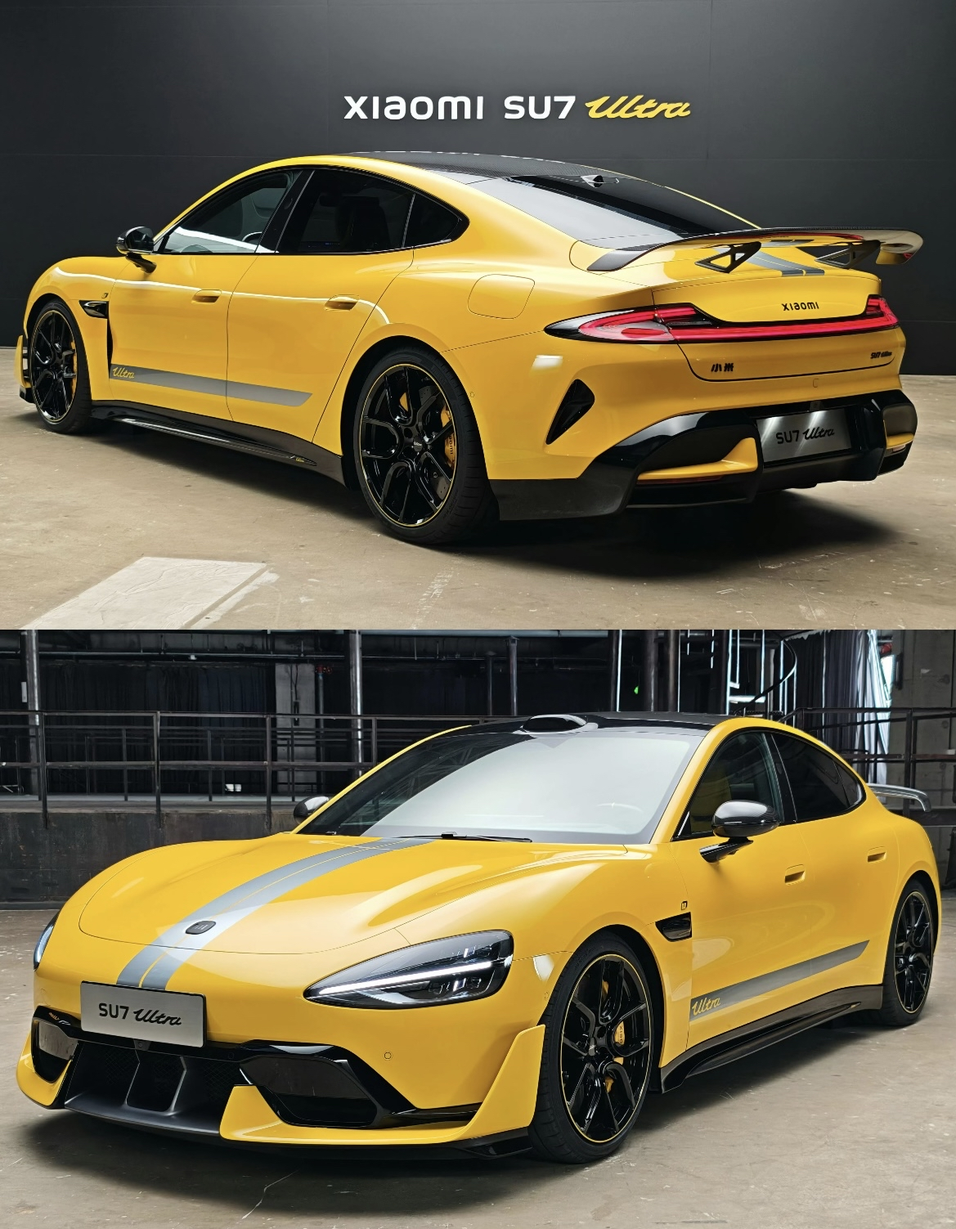su7: (24, 715, 954, 1176), (24, 133, 927, 527)
